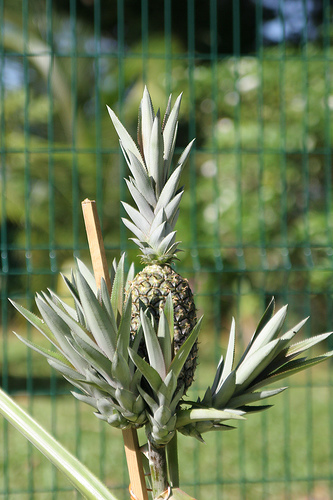pineapple: (105, 86, 199, 398)
